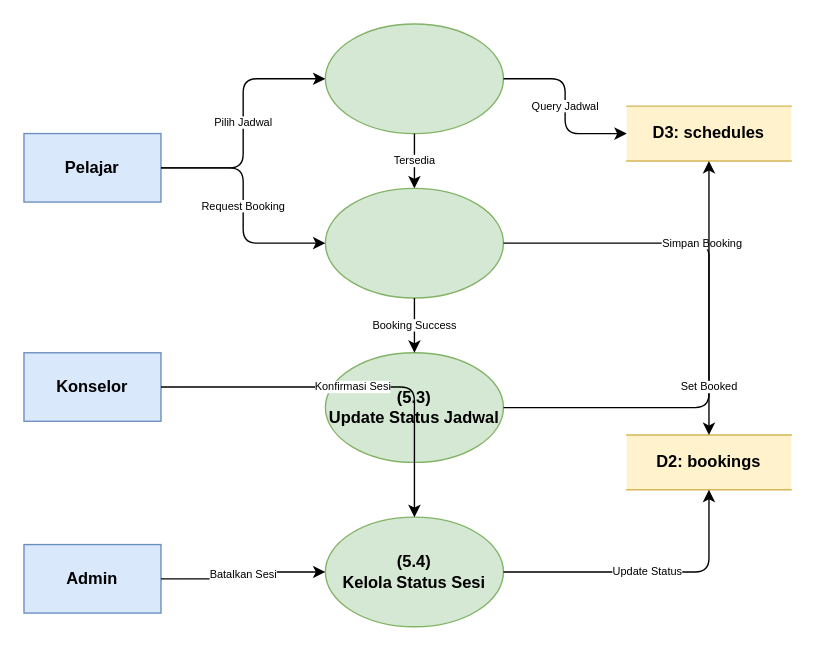
Image size: 815x651. Some labels were removed from this diagram. The box of each missing label's shape, as (x1, y1, x2, y2) in pixels:
(5.1) Cek Ketersediaan: (324, 23, 503, 134)
(5.2) Buat Booking: (324, 187, 503, 298)
